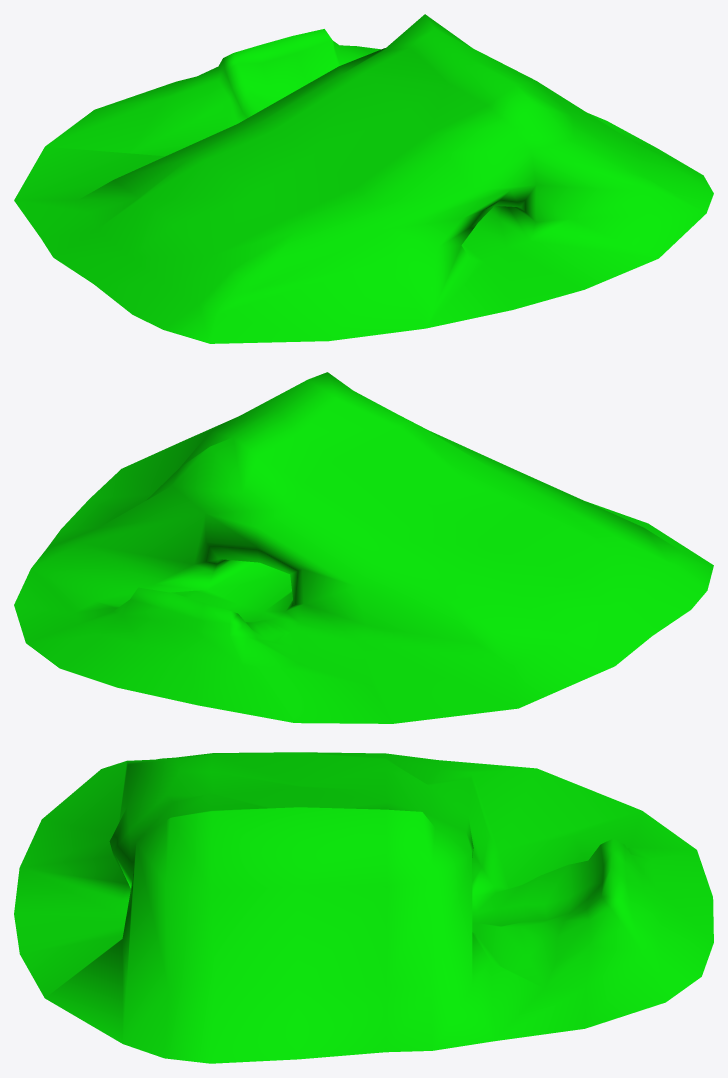
Rendered from RampTunnel_mesh.fbx.
3 views of the same model, one above another, from view 1: azimuth 30°, elevation 25°; view 2: azimuth 150°, elevation 25°; view 3: azimuth 270°, elevation 25° (orthographic). The views are drawn at different scales.
Parts seen in each view (by area): view 1: RampTunnel_mesh; view 2: RampTunnel_mesh; view 3: RampTunnel_mesh.
Boxes of the visible parts, x1,y1,x2,y2 form: RampTunnel_mesh: (14,14,713,343); RampTunnel_mesh: (14,372,713,723); RampTunnel_mesh: (14,752,713,1063).
Bounding box in the file's own units: 53.17 × 12.3 × 50.64.
